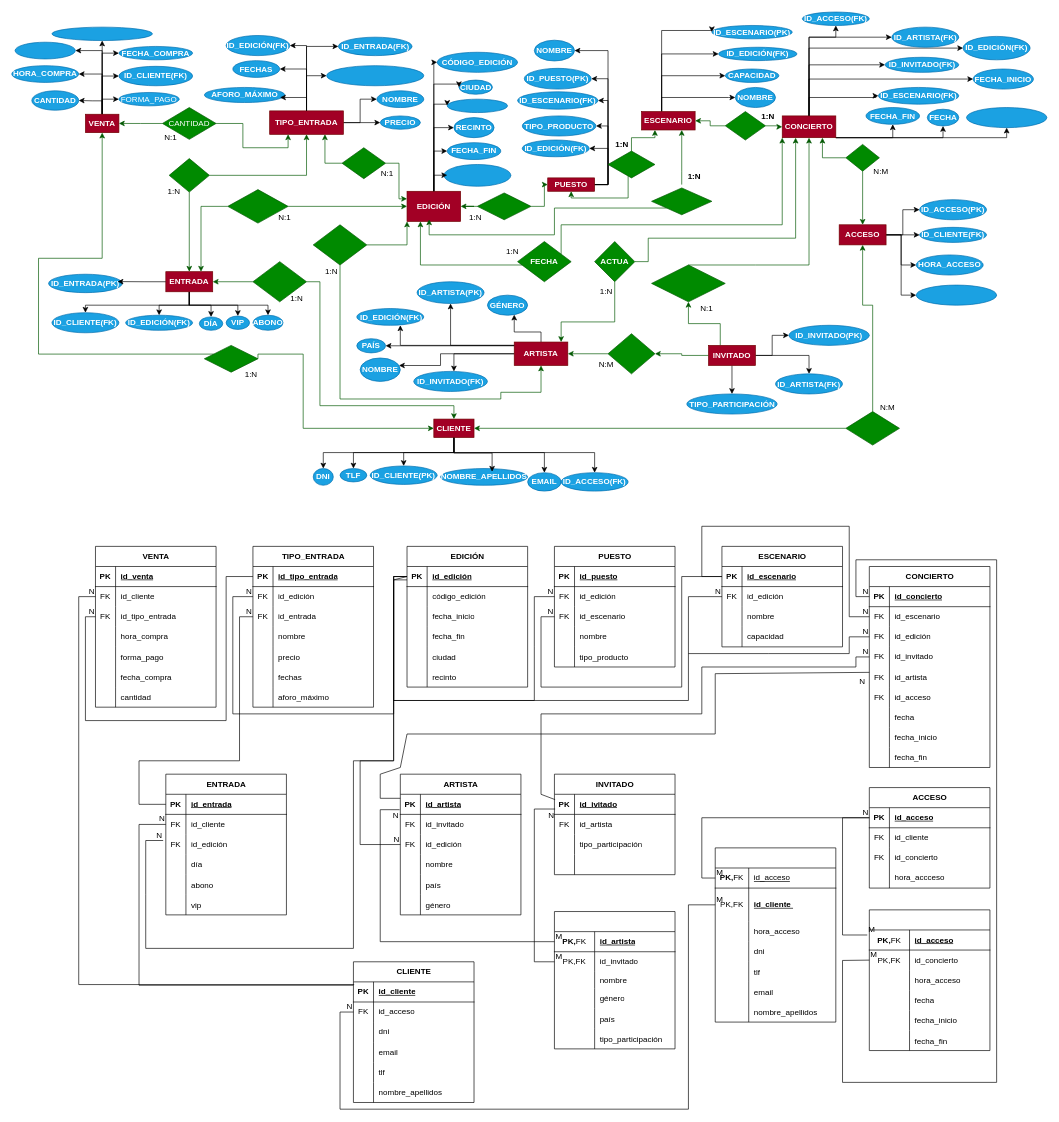
Some shapes in this 1059 by 1122 pixel diagram are drawn without their labels. Here are the shapes that lost their labels. From the top down, the box of each, then its label:
(14, 42, 75, 59): ID_VENTA(PK)
(51, 26, 152, 41): ID_TIPO_ENTRADAS(FK)
(326, 65, 424, 86): ID_TIPO_ENTRADA(PK)
(447, 98, 508, 113): FE CHA_INICIO
(725, 111, 765, 140): TIENE
(966, 107, 1047, 128): ID_CONCIERTO(PK)
(169, 158, 209, 192): TIPOS
(341, 147, 386, 179): DEFINE
(443, 164, 511, 186): ID_EDICIÓN(PK)
(607, 150, 655, 178): SITUADO
(845, 144, 879, 171): HAY
(227, 189, 288, 223): DIFERENTE
(477, 192, 531, 220): ASOCIADO
(651, 187, 712, 215): PERTENECE
(313, 224, 367, 265): PARTICIPA
(252, 261, 307, 302): COMPRAR
(651, 264, 725, 302): PUEDE_HABER
(916, 284, 997, 305): ID_CONCIERTO(FK)
(204, 345, 258, 372): REGISTRO
(607, 333, 655, 374): LLEVA
(845, 411, 899, 445): ENTRA
(715, 847, 836, 1022): ACCESO_CLIENTE
(554, 911, 675, 1049): ARTISTA_INVITADO
(869, 909, 990, 1051): ACCESO_CONCIERTO
